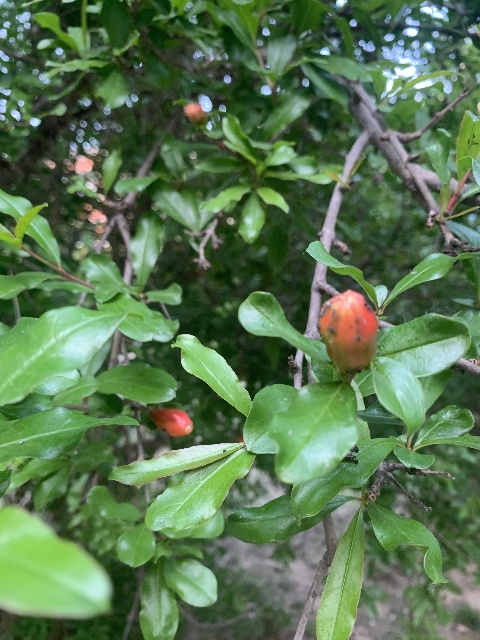bud: (319, 290, 378, 372), (149, 407, 192, 436)
